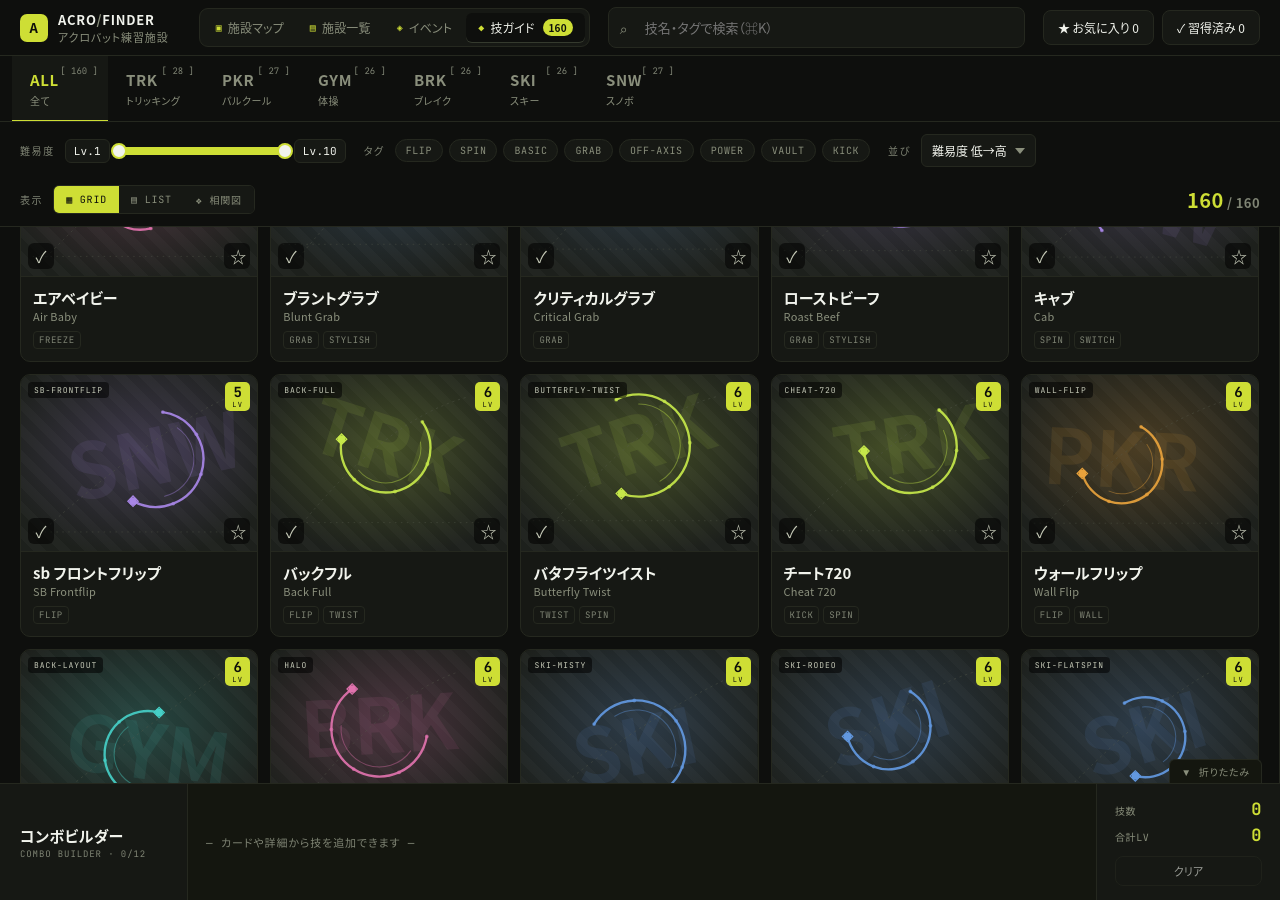
SkillsApp › detail panel › says when a skill has no derived skills
(page scrolled)
Click the element with class "skl-card" that starts with "TRK" at (389,505), box x1=270 y1=374 x2=508 y2=637
(page scrolled)
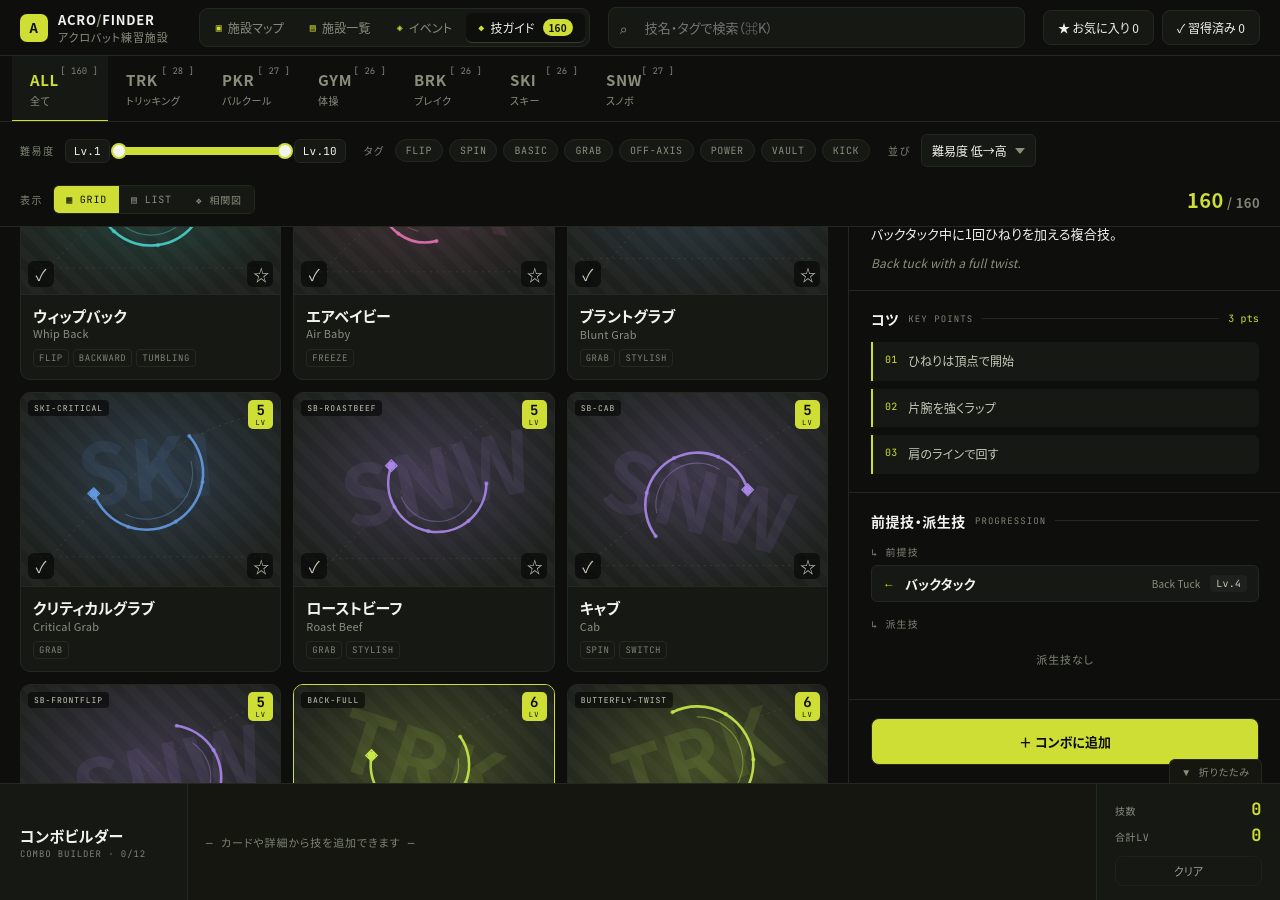
Now the text "派生技なし" is shown, box x1=1036 y1=653 x2=1094 y2=667
